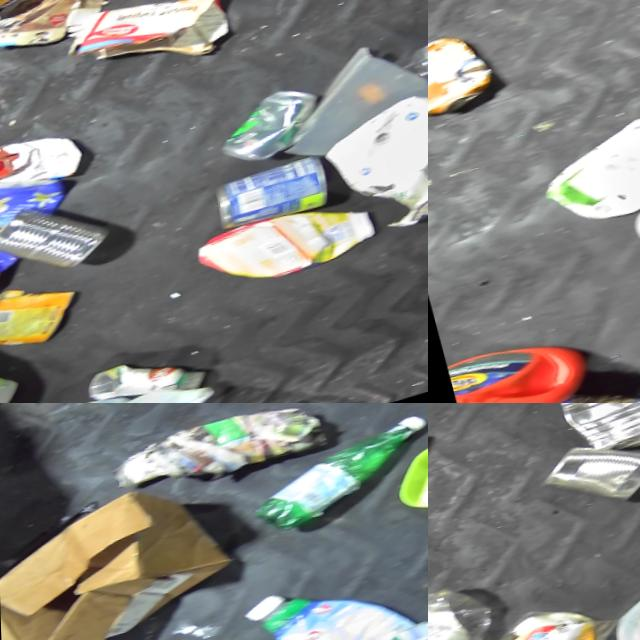can: (201, 153, 341, 245), (0, 187, 117, 293), (530, 422, 640, 526), (203, 85, 323, 175), (0, 278, 69, 362), (428, 24, 479, 122)
milk_jug: (0, 367, 208, 403)
non_white_jug: (441, 330, 581, 403), (0, 177, 23, 306)
plastic_bottle: (234, 403, 428, 552), (386, 15, 428, 94)
